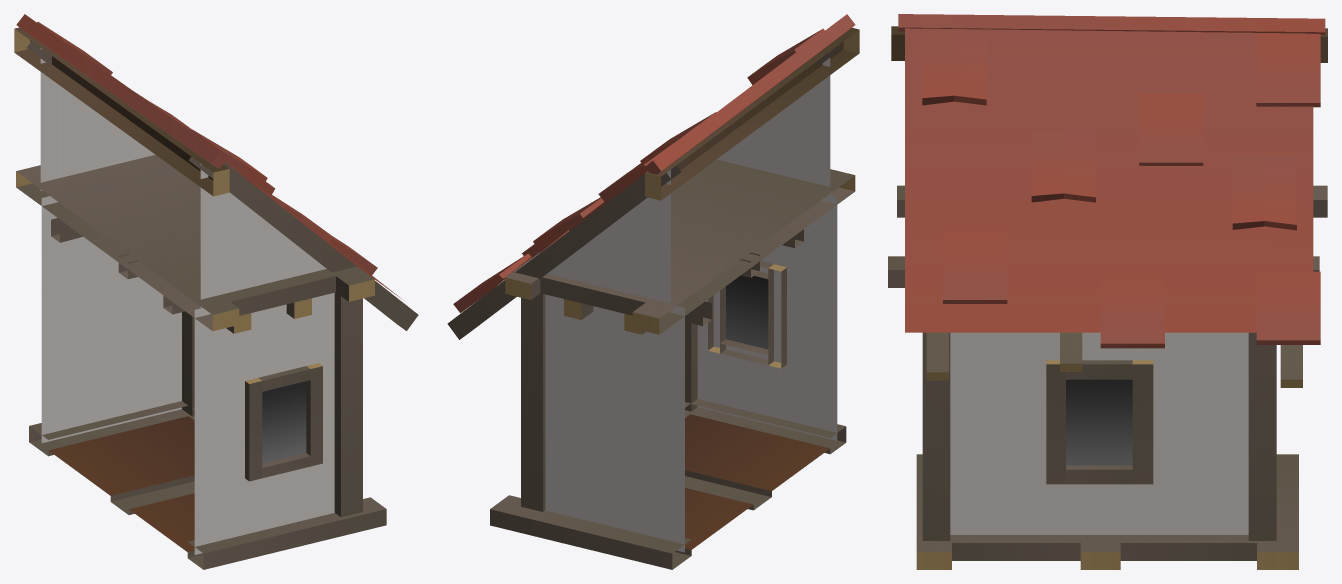
Rendered from House_Piece_1B.fbx.
3 renders of one model, left to right at view 1: azimuth 30°, elevation 25°; view 2: azimuth 150°, elevation 25°; view 3: azimuth 270°, elevation 25°, orthographic. The views are drawn at different scales.
Parts seen in each view (by area): view 1: polySurface9629; view 2: polySurface9629; view 3: polySurface9629.
Boxes of the visible parts, x1=… form: polySurface9629: x1=14, y1=14, x2=418, y2=569; polySurface9629: x1=447, y1=14, x2=859, y2=569; polySurface9629: x1=888, y1=14, x2=1327, y2=569.
Size of the model in its own units: 219 by 387 by 334.
